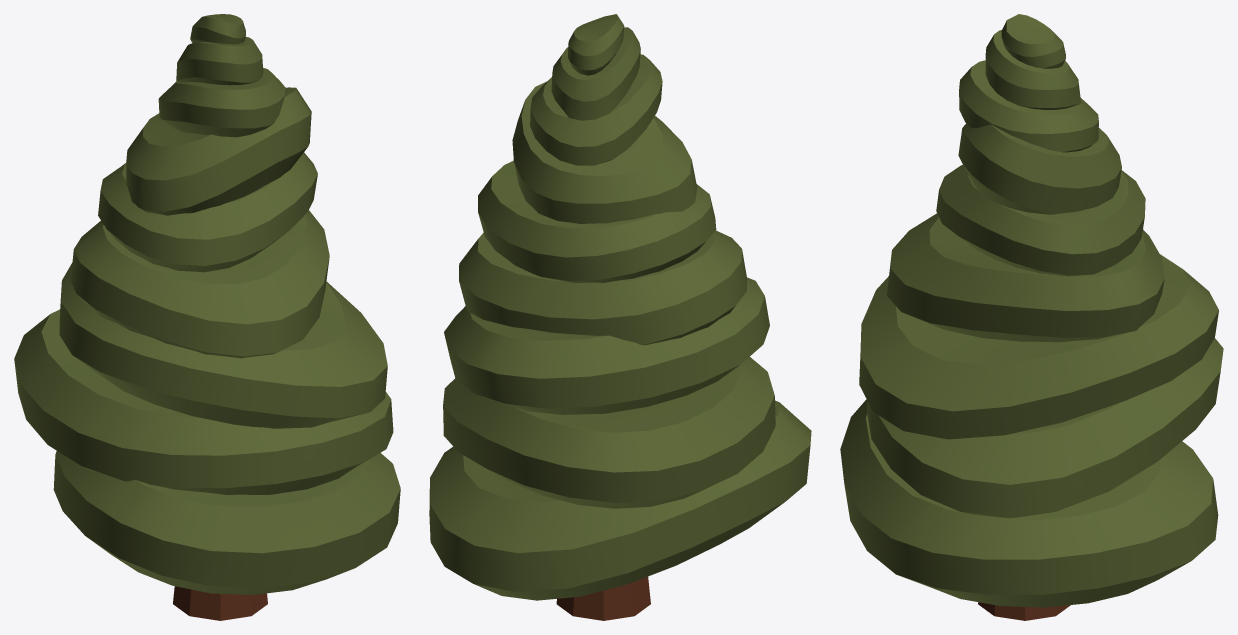
Rendered from Pine.fbx.
3 renders of one model, left to right at view 1: azimuth 30°, elevation 25°; view 2: azimuth 150°, elevation 25°; view 3: azimuth 270°, elevation 25°, orthographic.
Visible parts, largest first — view 1: Pine; view 2: Pine; view 3: Pine.
Part boxes in pixels (x1,y1,x2,y2): Pine: (14, 14, 400, 620); Pine: (429, 14, 811, 620); Pine: (840, 14, 1223, 620).
Bounding box in the file's own units: 9.97 × 17.8 × 10.64.
1 material, 1 textured.
